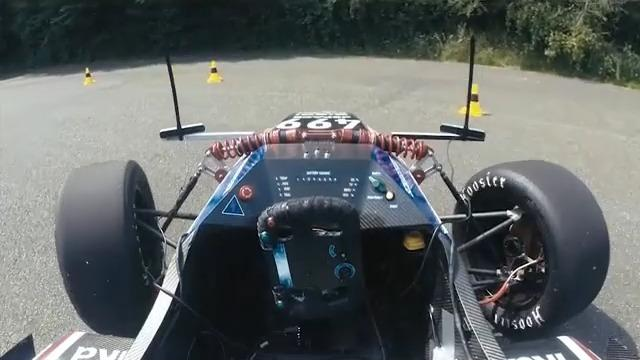yellow_cone: (459, 84, 485, 117), (207, 59, 224, 83), (83, 68, 97, 86)
